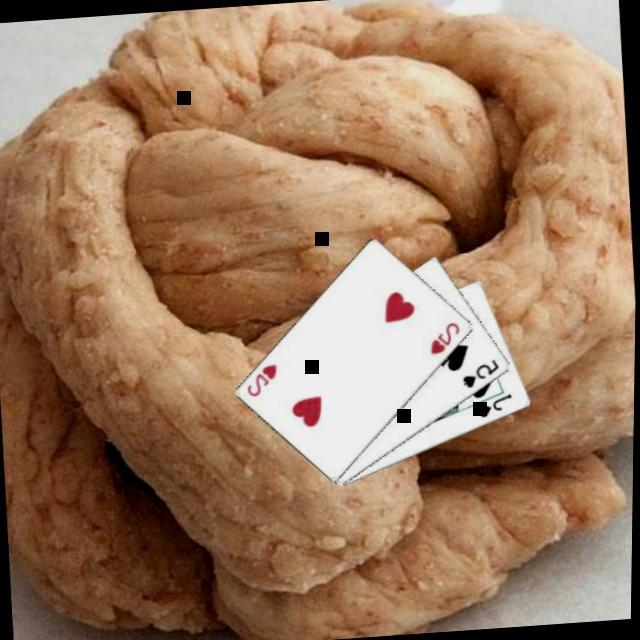2H: (427, 316, 466, 356), (244, 358, 283, 398)
5S: (460, 353, 506, 389)
JS: (476, 388, 518, 419)
